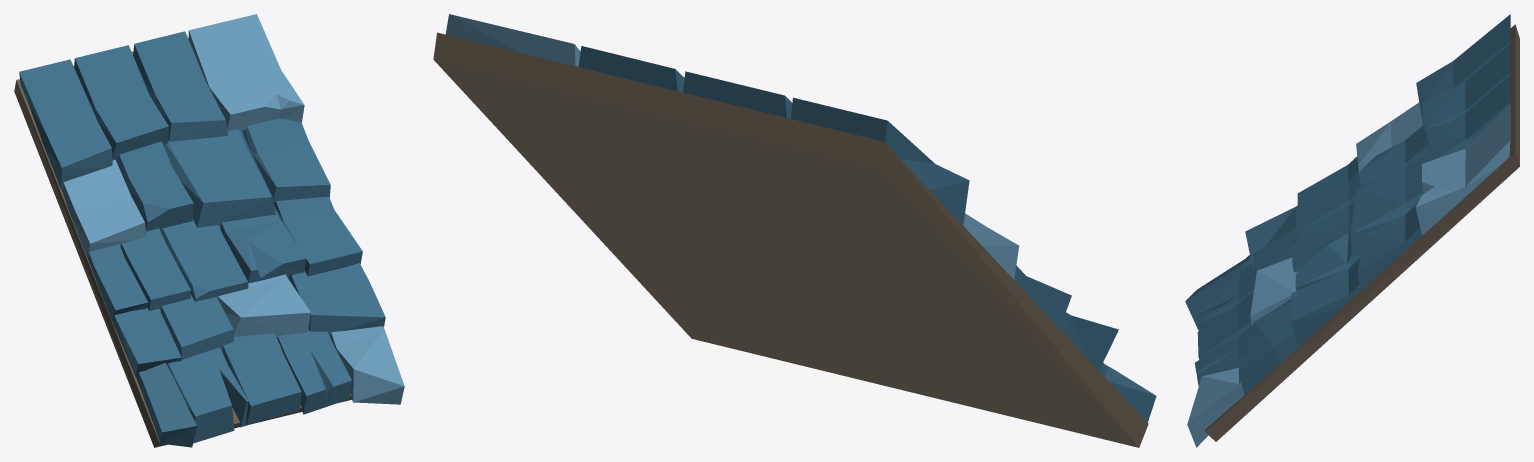
Rendered from ROOF_base_1.glb.
3 views of the same model, side by side, from view 1: azimuth 30°, elevation 25°; view 2: azimuth 150°, elevation 25°; view 3: azimuth 270°, elevation 25° (orthographic). The views are drawn at different scales.
Visible parts, largest first — view 1: ROOF_base_1; view 2: ROOF_base_1; view 3: ROOF_base_1.
Part boxes in pixels (x1,y1,x2,y2): ROOF_base_1: [14, 14, 404, 447]; ROOF_base_1: [433, 14, 1156, 447]; ROOF_base_1: [1185, 14, 1519, 447].
Size of the model in its own units: 1.01 by 1.12 by 1.1.
Materials: 1 (1 with a texture image).
